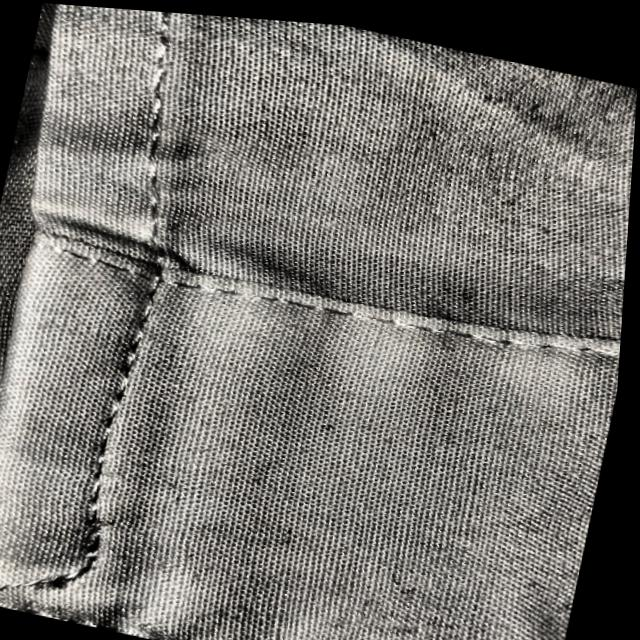Stitch: (0, 517, 112, 624)
